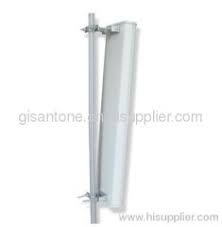sa: (70, 14, 154, 227)
